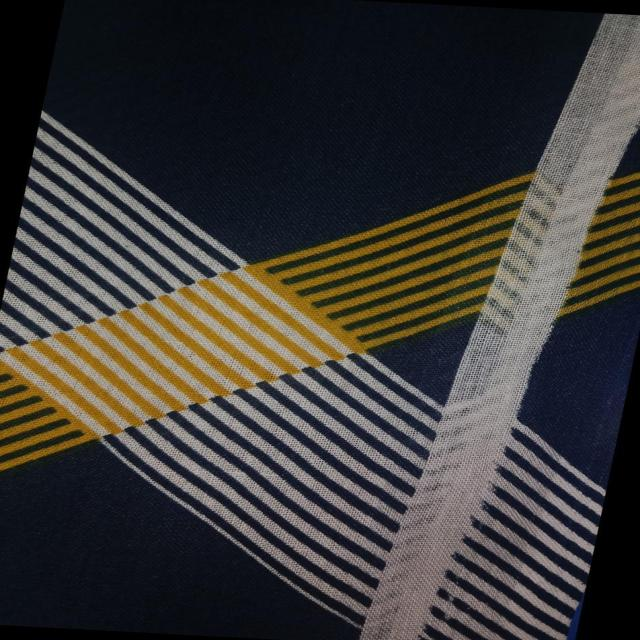selvet: (367, 8, 640, 640)
